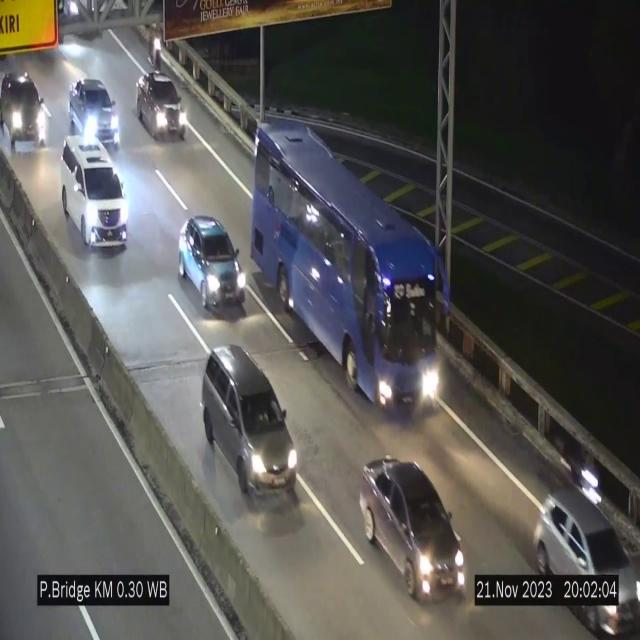Bus: (250, 118, 441, 418)
Car: (527, 475, 640, 640), (358, 456, 468, 603), (199, 341, 296, 503), (62, 139, 128, 248), (179, 215, 245, 312), (0, 69, 48, 155), (134, 71, 188, 141), (67, 74, 120, 145)
Motorcycle: (570, 446, 602, 510), (138, 11, 168, 71)
